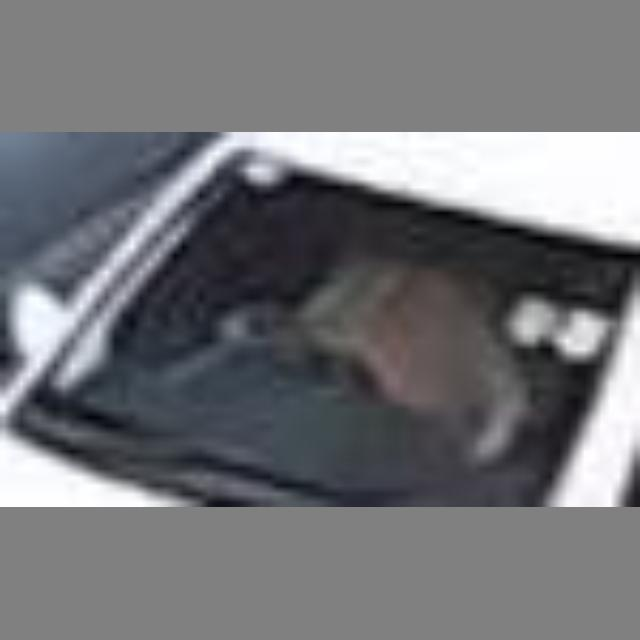tidak-pakai: (213, 200, 512, 456)
